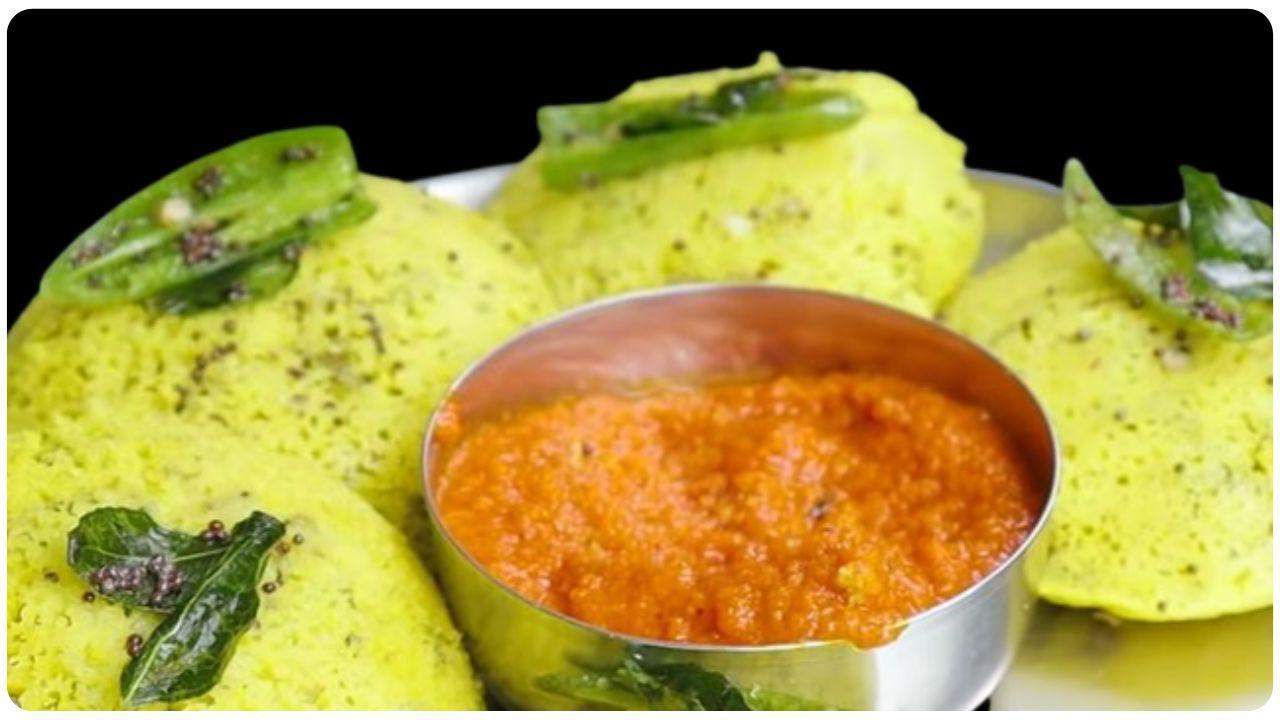dhokla: (0, 71, 462, 712), (496, 57, 1256, 329), (1030, 317, 1270, 621)
